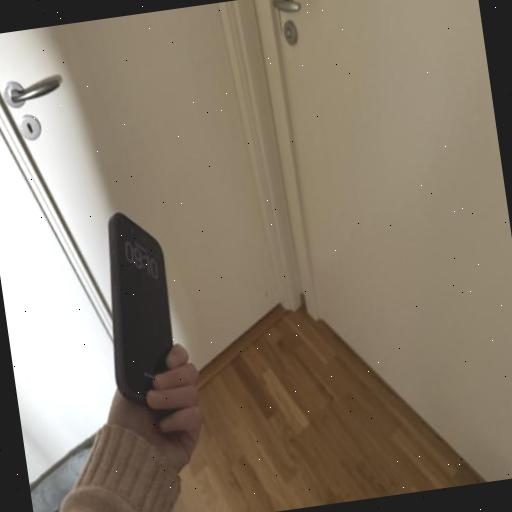phone: (102, 207, 190, 441)
